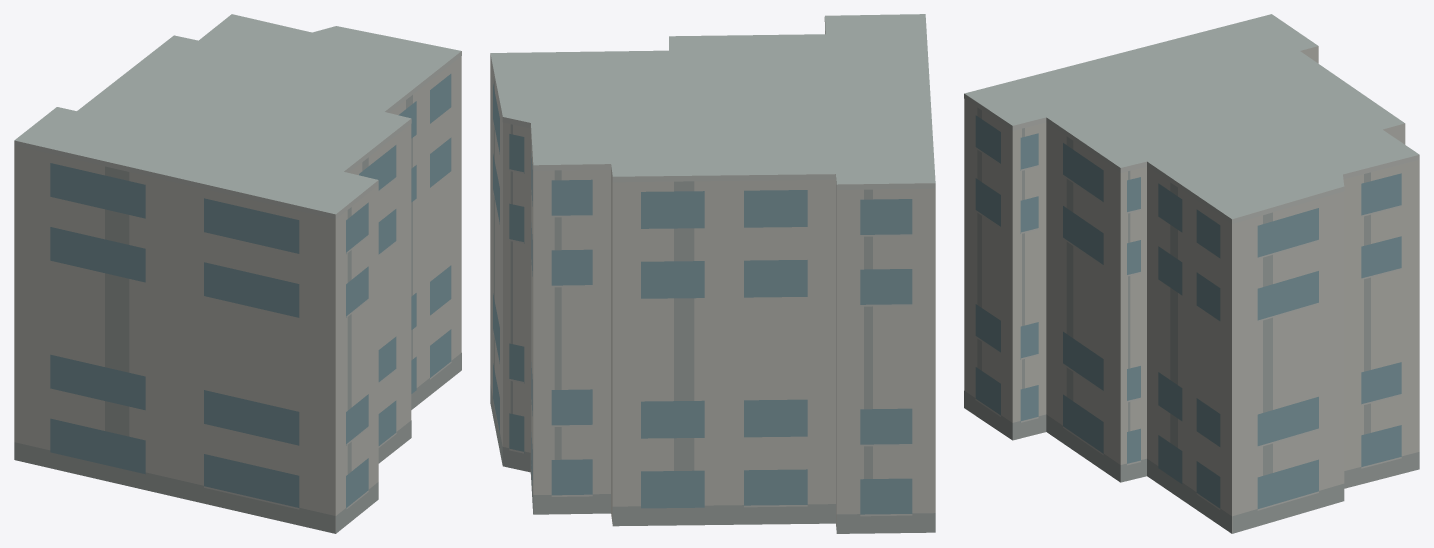
Rendered from survey-upis-32487110.glb.
3 renders of one model, left to right at view 1: azimuth 30°, elevation 25°; view 2: azimuth 150°, elevation 25°; view 3: azimuth 270°, elevation 25°, orthographic. The views are drawn at different scales.
Parts seen in each view (by area): view 1: survey-upis-32487110.tmp; view 2: survey-upis-32487110.tmp; view 3: survey-upis-32487110.tmp.
Boxes of the visible parts, box(x1,y1,x2,y2) form: survey-upis-32487110.tmp: box(14, 14, 461, 533); survey-upis-32487110.tmp: box(490, 14, 935, 533); survey-upis-32487110.tmp: box(964, 14, 1419, 533).
Bounding box in the file's own units: 21.35 × 15.25 × 20.02.
